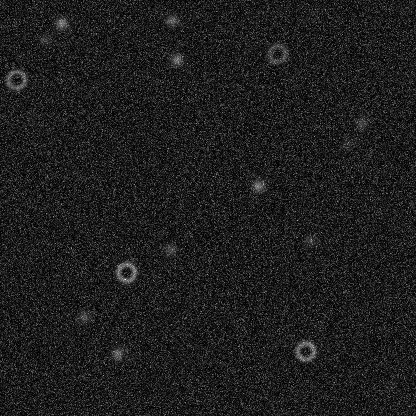Ring: (114, 260, 138, 284), (4, 67, 28, 91), (293, 338, 317, 362), (265, 41, 289, 65)
Spot: (302, 232, 318, 248), (37, 32, 53, 48), (109, 345, 125, 361), (338, 135, 354, 151), (53, 15, 69, 31), (250, 177, 266, 193), (22, 109, 38, 125), (383, 378, 399, 394), (353, 114, 369, 130), (75, 308, 91, 324), (162, 241, 178, 257), (163, 12, 179, 28), (168, 51, 184, 67)
